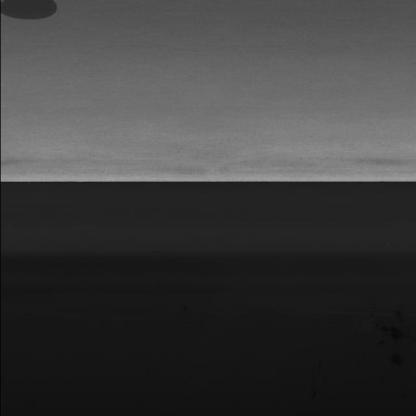oil_spot: (0, 0, 72, 32)
